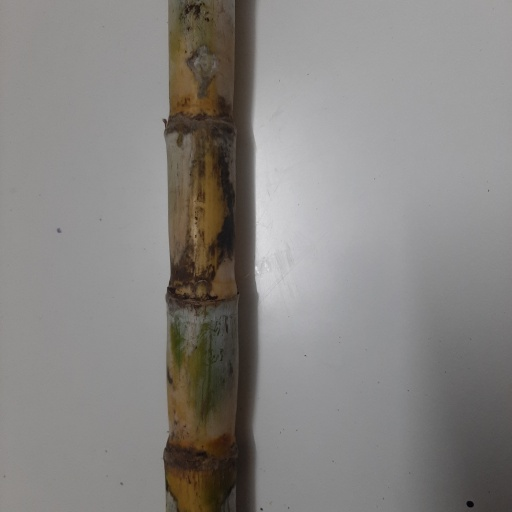Bud: (193, 280, 209, 299)
